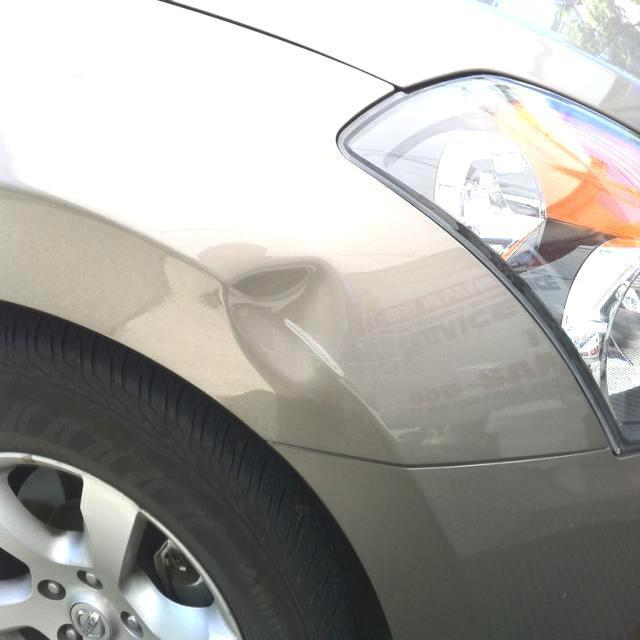minor: (215, 251, 360, 403)
